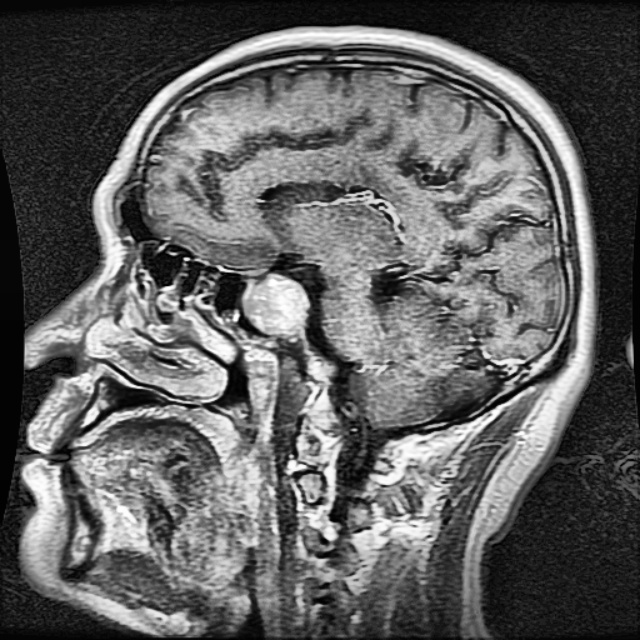Pituitary: (245, 278, 305, 330)
